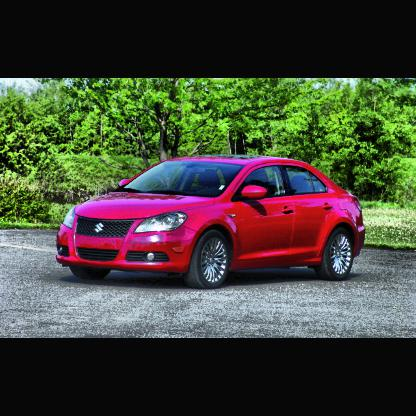Suzuki Kizashi Sedan 2012: (59, 157, 366, 284)
